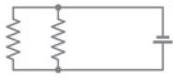Battery: (145, 24, 172, 50)
